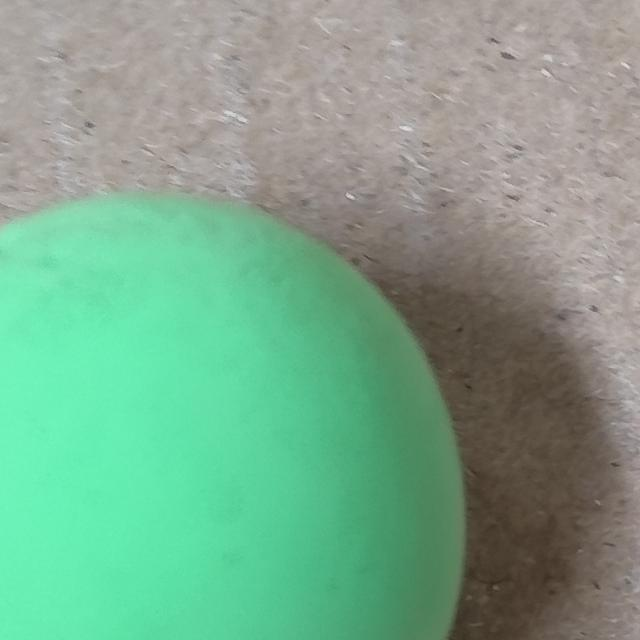bad: (0, 192, 463, 640)
